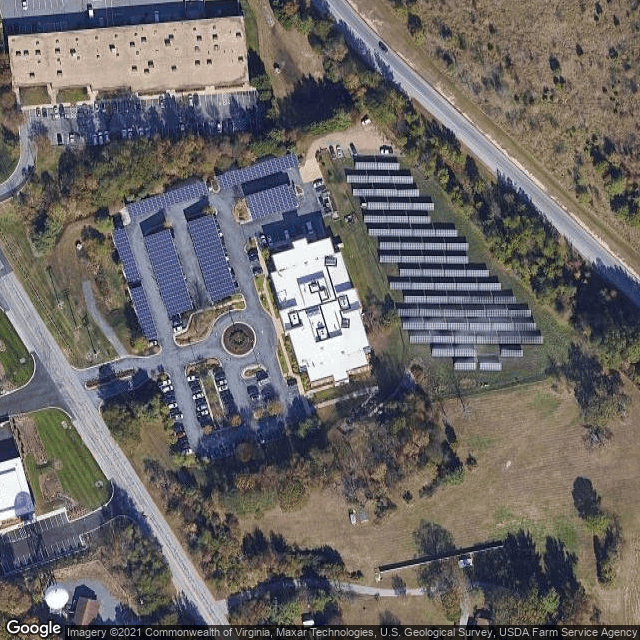carport-fixed: (146, 232, 201, 315), (189, 214, 244, 297), (219, 143, 292, 187), (130, 175, 203, 219), (244, 186, 302, 215), (131, 285, 156, 339), (114, 231, 137, 275)
ground-fixed: (348, 157, 544, 372)
